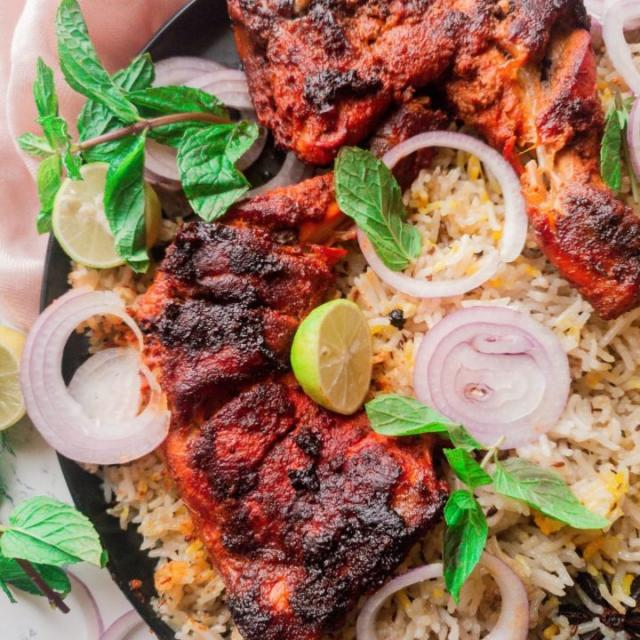Chicken Tikka: (142, 0, 636, 640)
